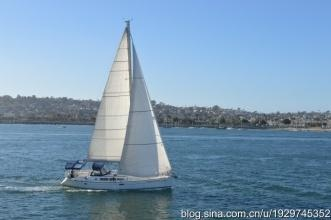fanchuan: (60, 19, 177, 192)
